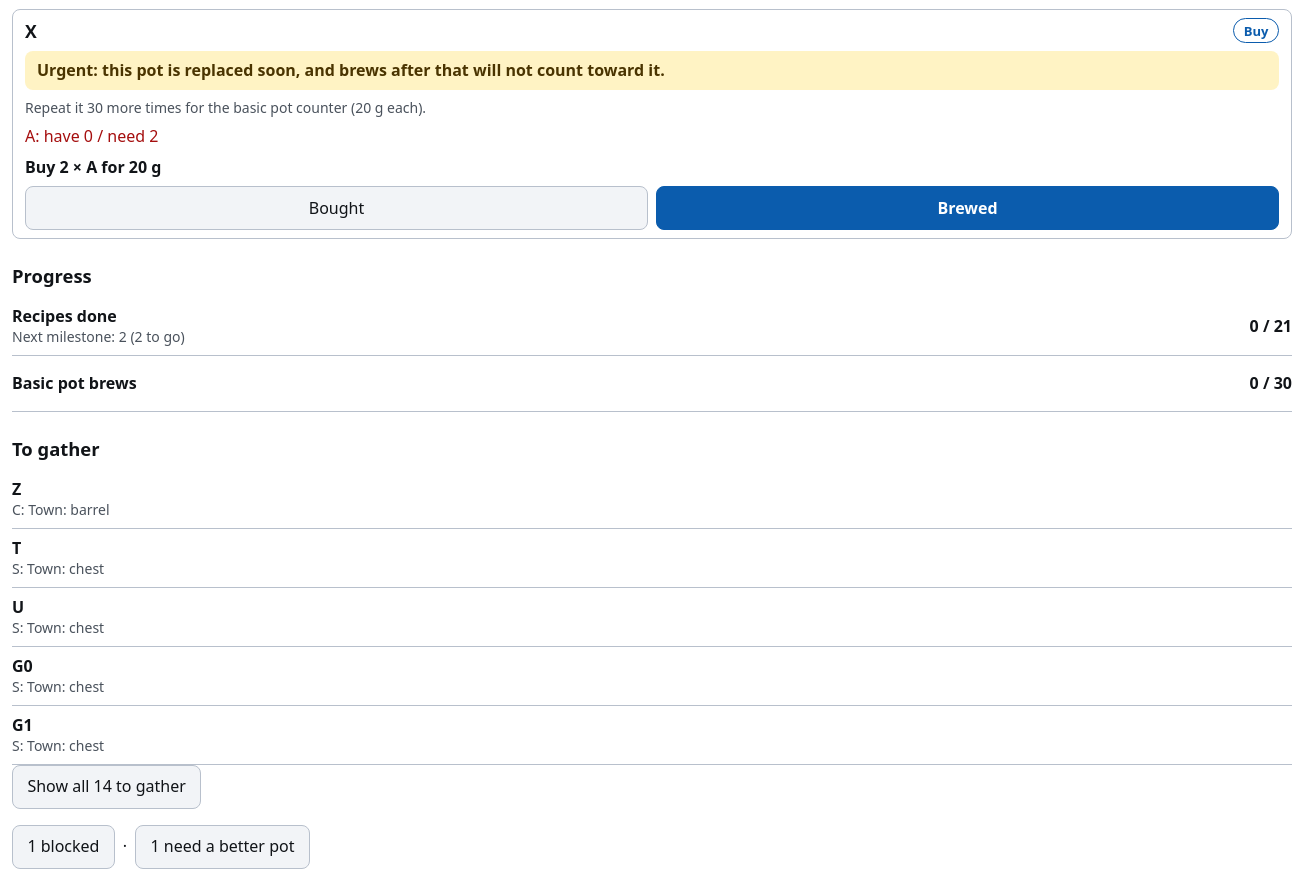
Test case: Next › a long gather list › shows five rows and the rest on request
The width and height of the screenshot is (1304, 877).
(page scrolled)
What coordinates should you click on to do the following:
click the button "Show all 14 to gather"
I would click on:
 (107, 787)
Its box is [12,765,201,809].
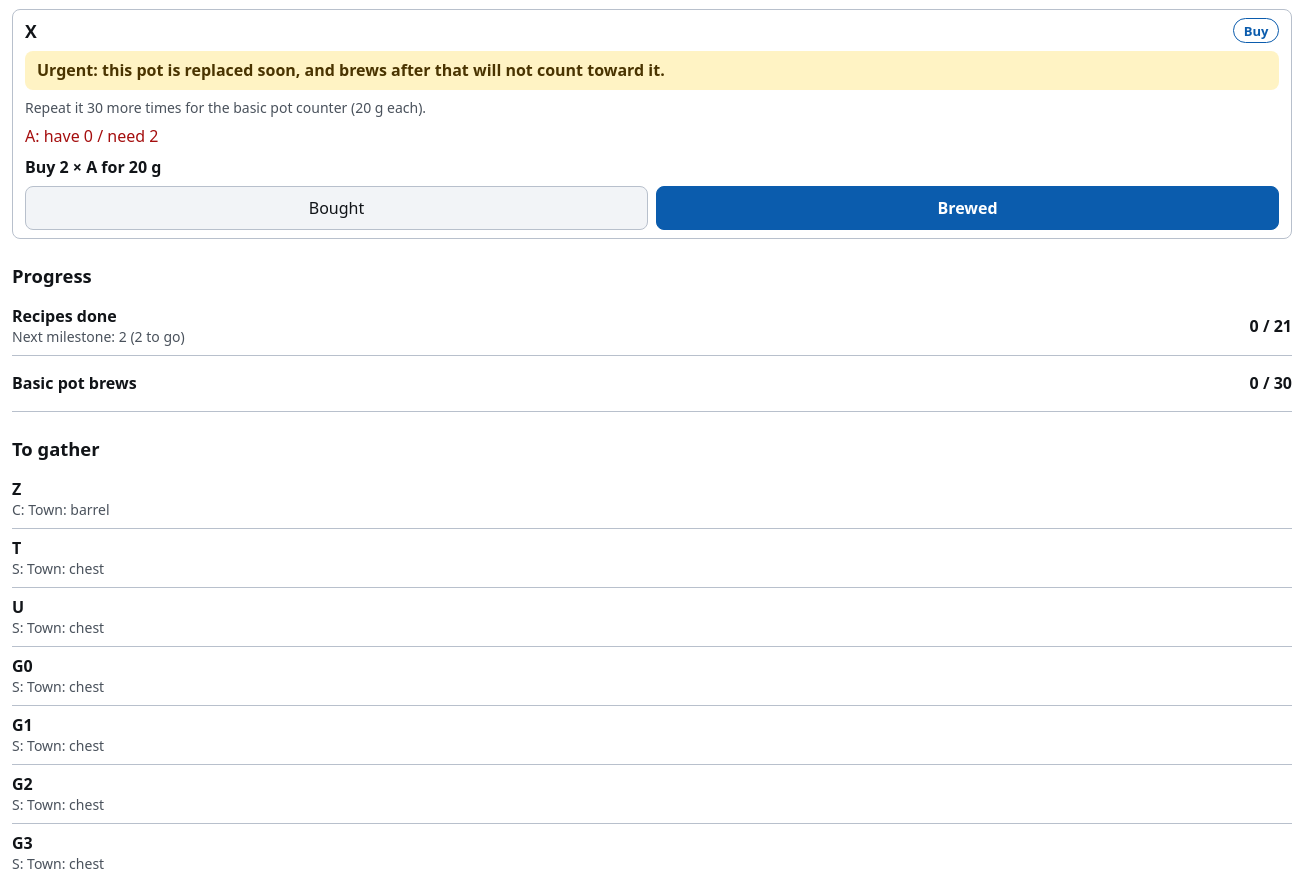
Now the button "Show all 14 to gather" is gone
